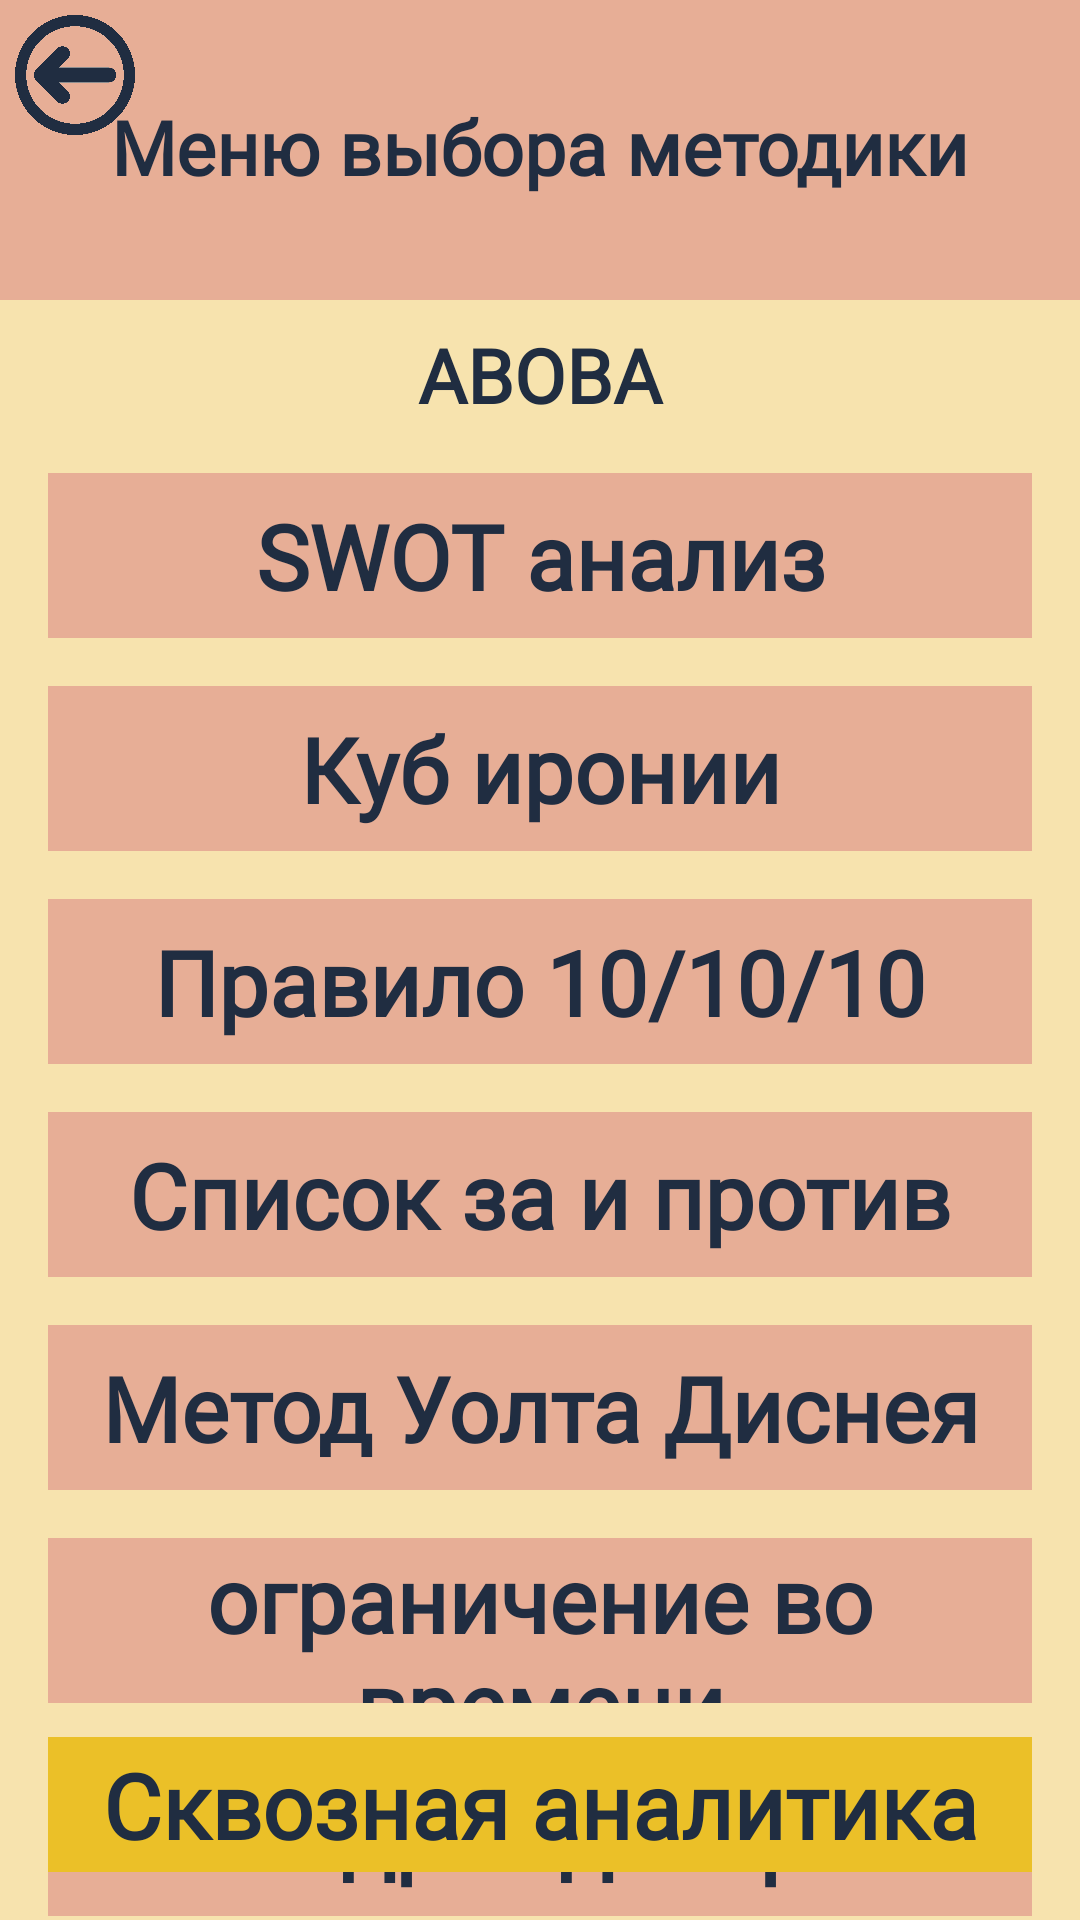

Icons on this 1080x1920 Android screen, each with its box as box(x1, y1, x2, y2):
backbutton: box(15, 15, 135, 135)
